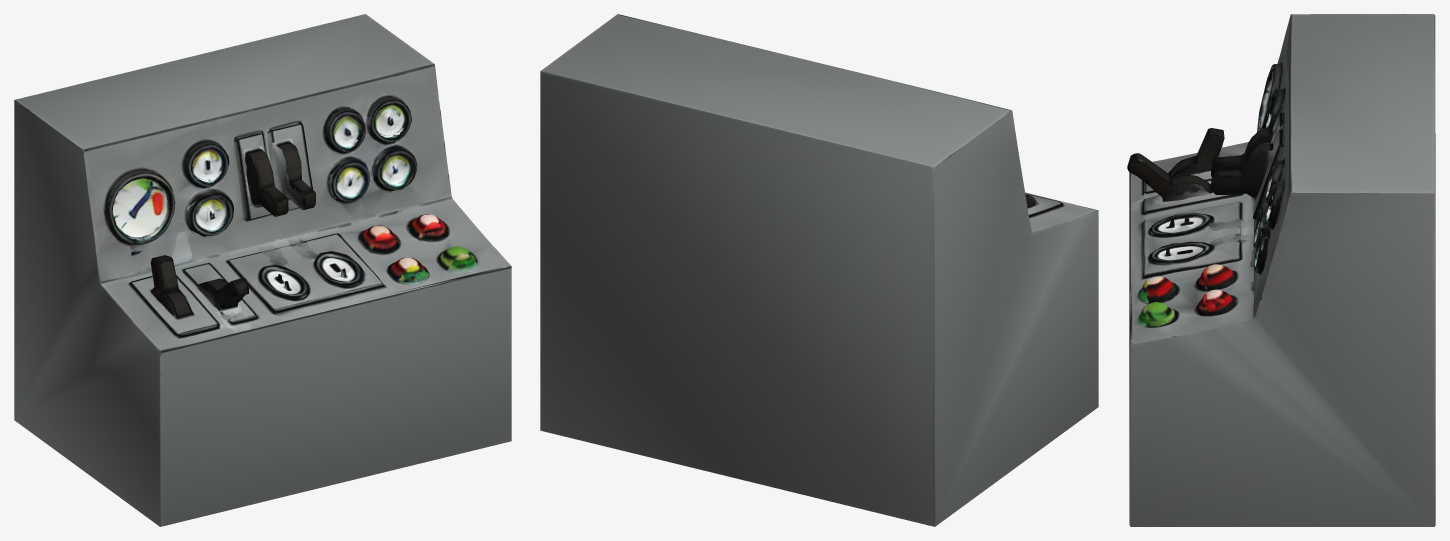
The model's file is reactor_console_tex.glb.
3 renders of one model, left to right at view 1: azimuth 30°, elevation 25°; view 2: azimuth 150°, elevation 25°; view 3: azimuth 270°, elevation 25°, orthographic. The views are drawn at different scales.
Visible parts, largest first — view 1: tmp90gzbpw1.ply; view 2: tmp90gzbpw1.ply; view 3: tmp90gzbpw1.ply.
Part boxes in pixels (x1=…): tmp90gzbpw1.ply: x1=14, y1=14, x2=511, y2=526; tmp90gzbpw1.ply: x1=540, y1=14, x2=1098, y2=526; tmp90gzbpw1.ply: x1=1127, y1=14, x2=1435, y2=526.
Bounding box in the file's own units: 0.9876 × 0.8609 × 0.7174.
Materials: 1 (1 with a texture image).
